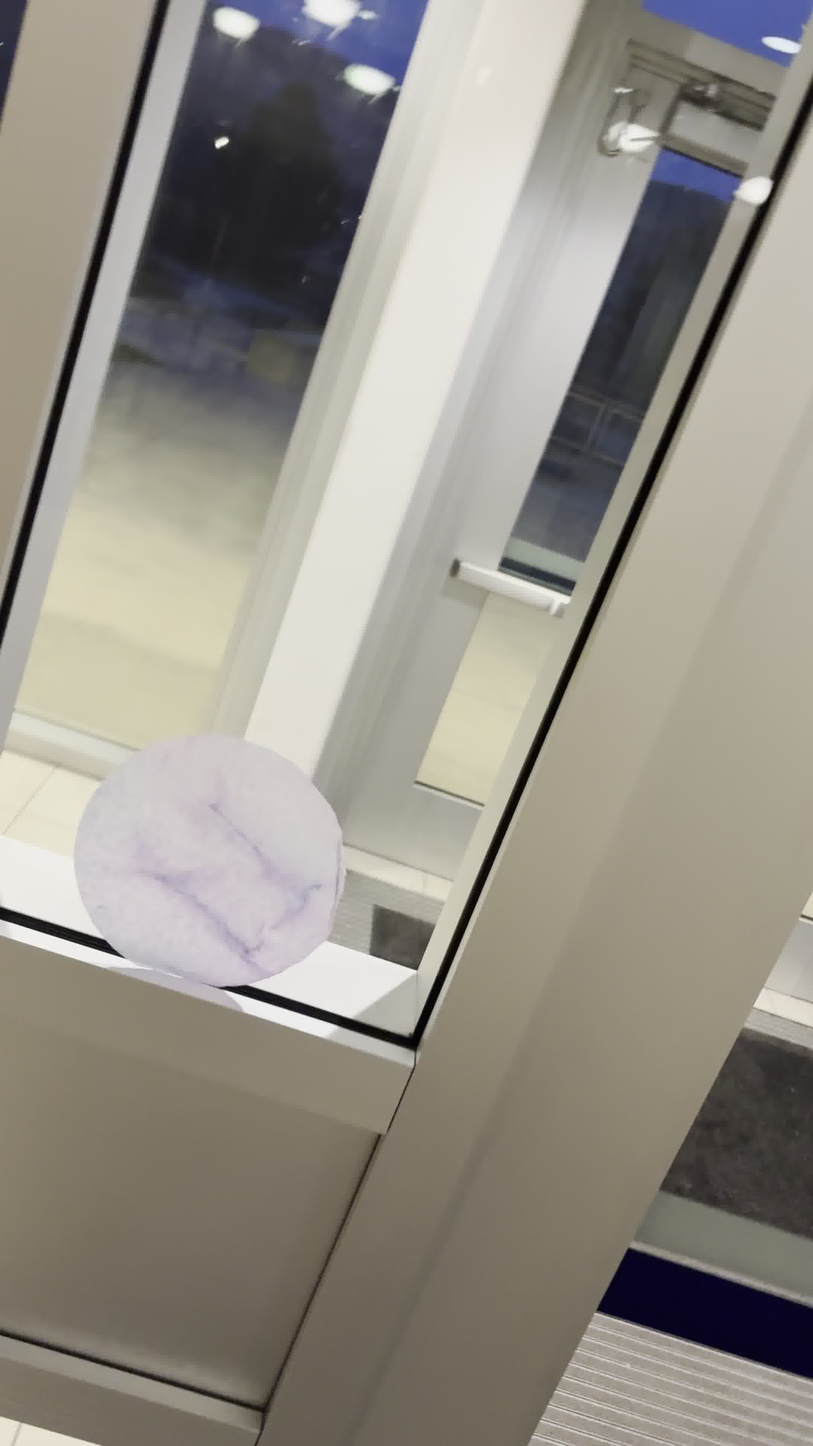Target: (71, 728, 350, 989)
